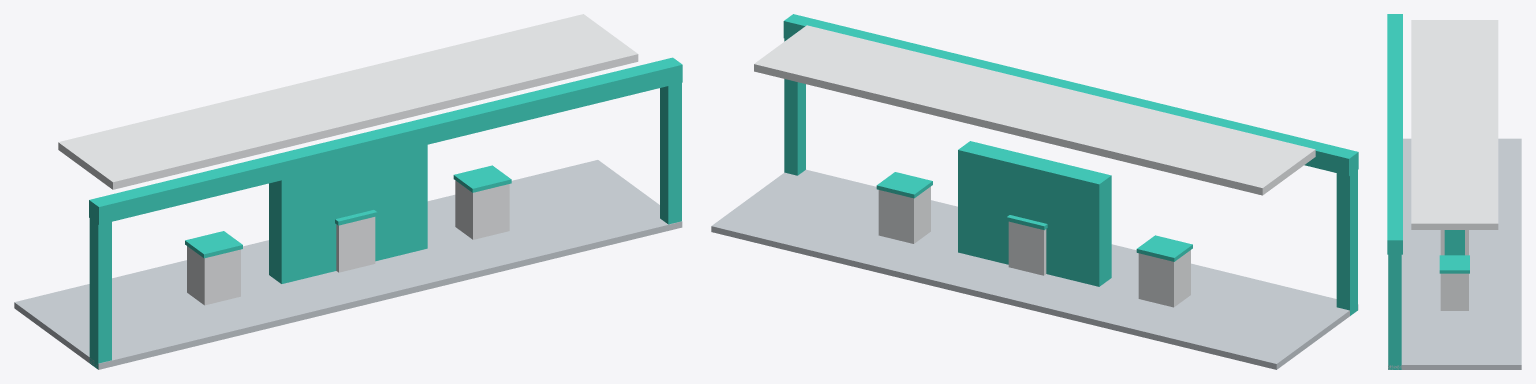
The picture shows the model from 3 angles, left to right: view 1: azimuth 30°, elevation 25°; view 2: azimuth 150°, elevation 25°; view 3: azimuth 270°, elevation 25°; orthographic projection. The views are drawn at different scales.
Visible parts, largest first — view 1: Exhibition Booth Concept; view 2: Exhibition Booth Concept; view 3: Exhibition Booth Concept.
Part boxes in pixels (x1,y1,x2,y2): Exhibition Booth Concept: (14,14,682,369); Exhibition Booth Concept: (711,14,1358,369); Exhibition Booth Concept: (1387,14,1521,369).
Size of the model in its own units: 12 by 3.34 by 3.01.
